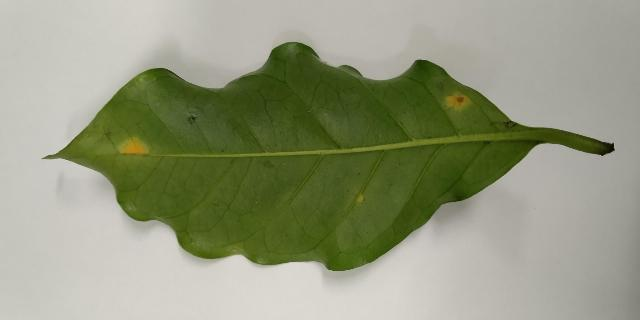miner: (118, 138, 151, 156), (445, 92, 471, 112), (356, 193, 364, 203)
